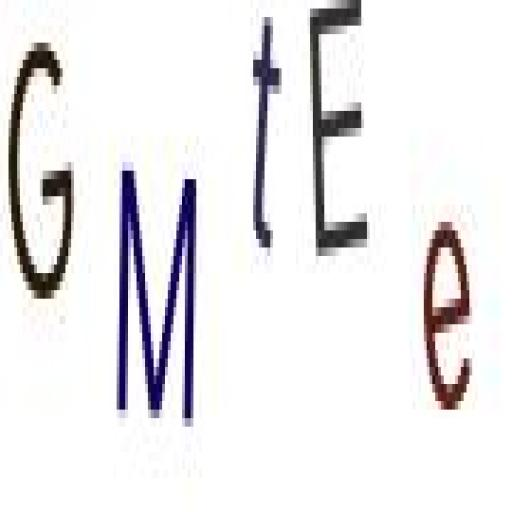E: (302, 6, 379, 267)
G: (3, 17, 81, 325)
M: (113, 151, 201, 444)
e: (422, 217, 476, 414)
t: (251, 13, 284, 275)
